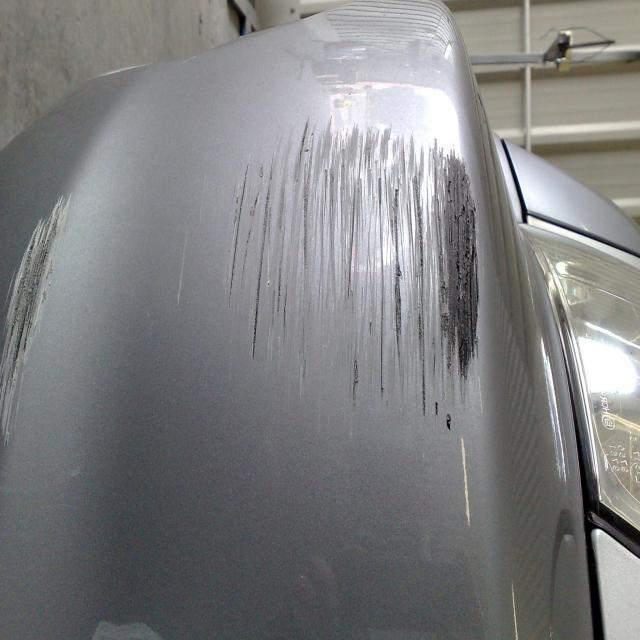scratch: (213, 119, 500, 452), (0, 173, 79, 491)
